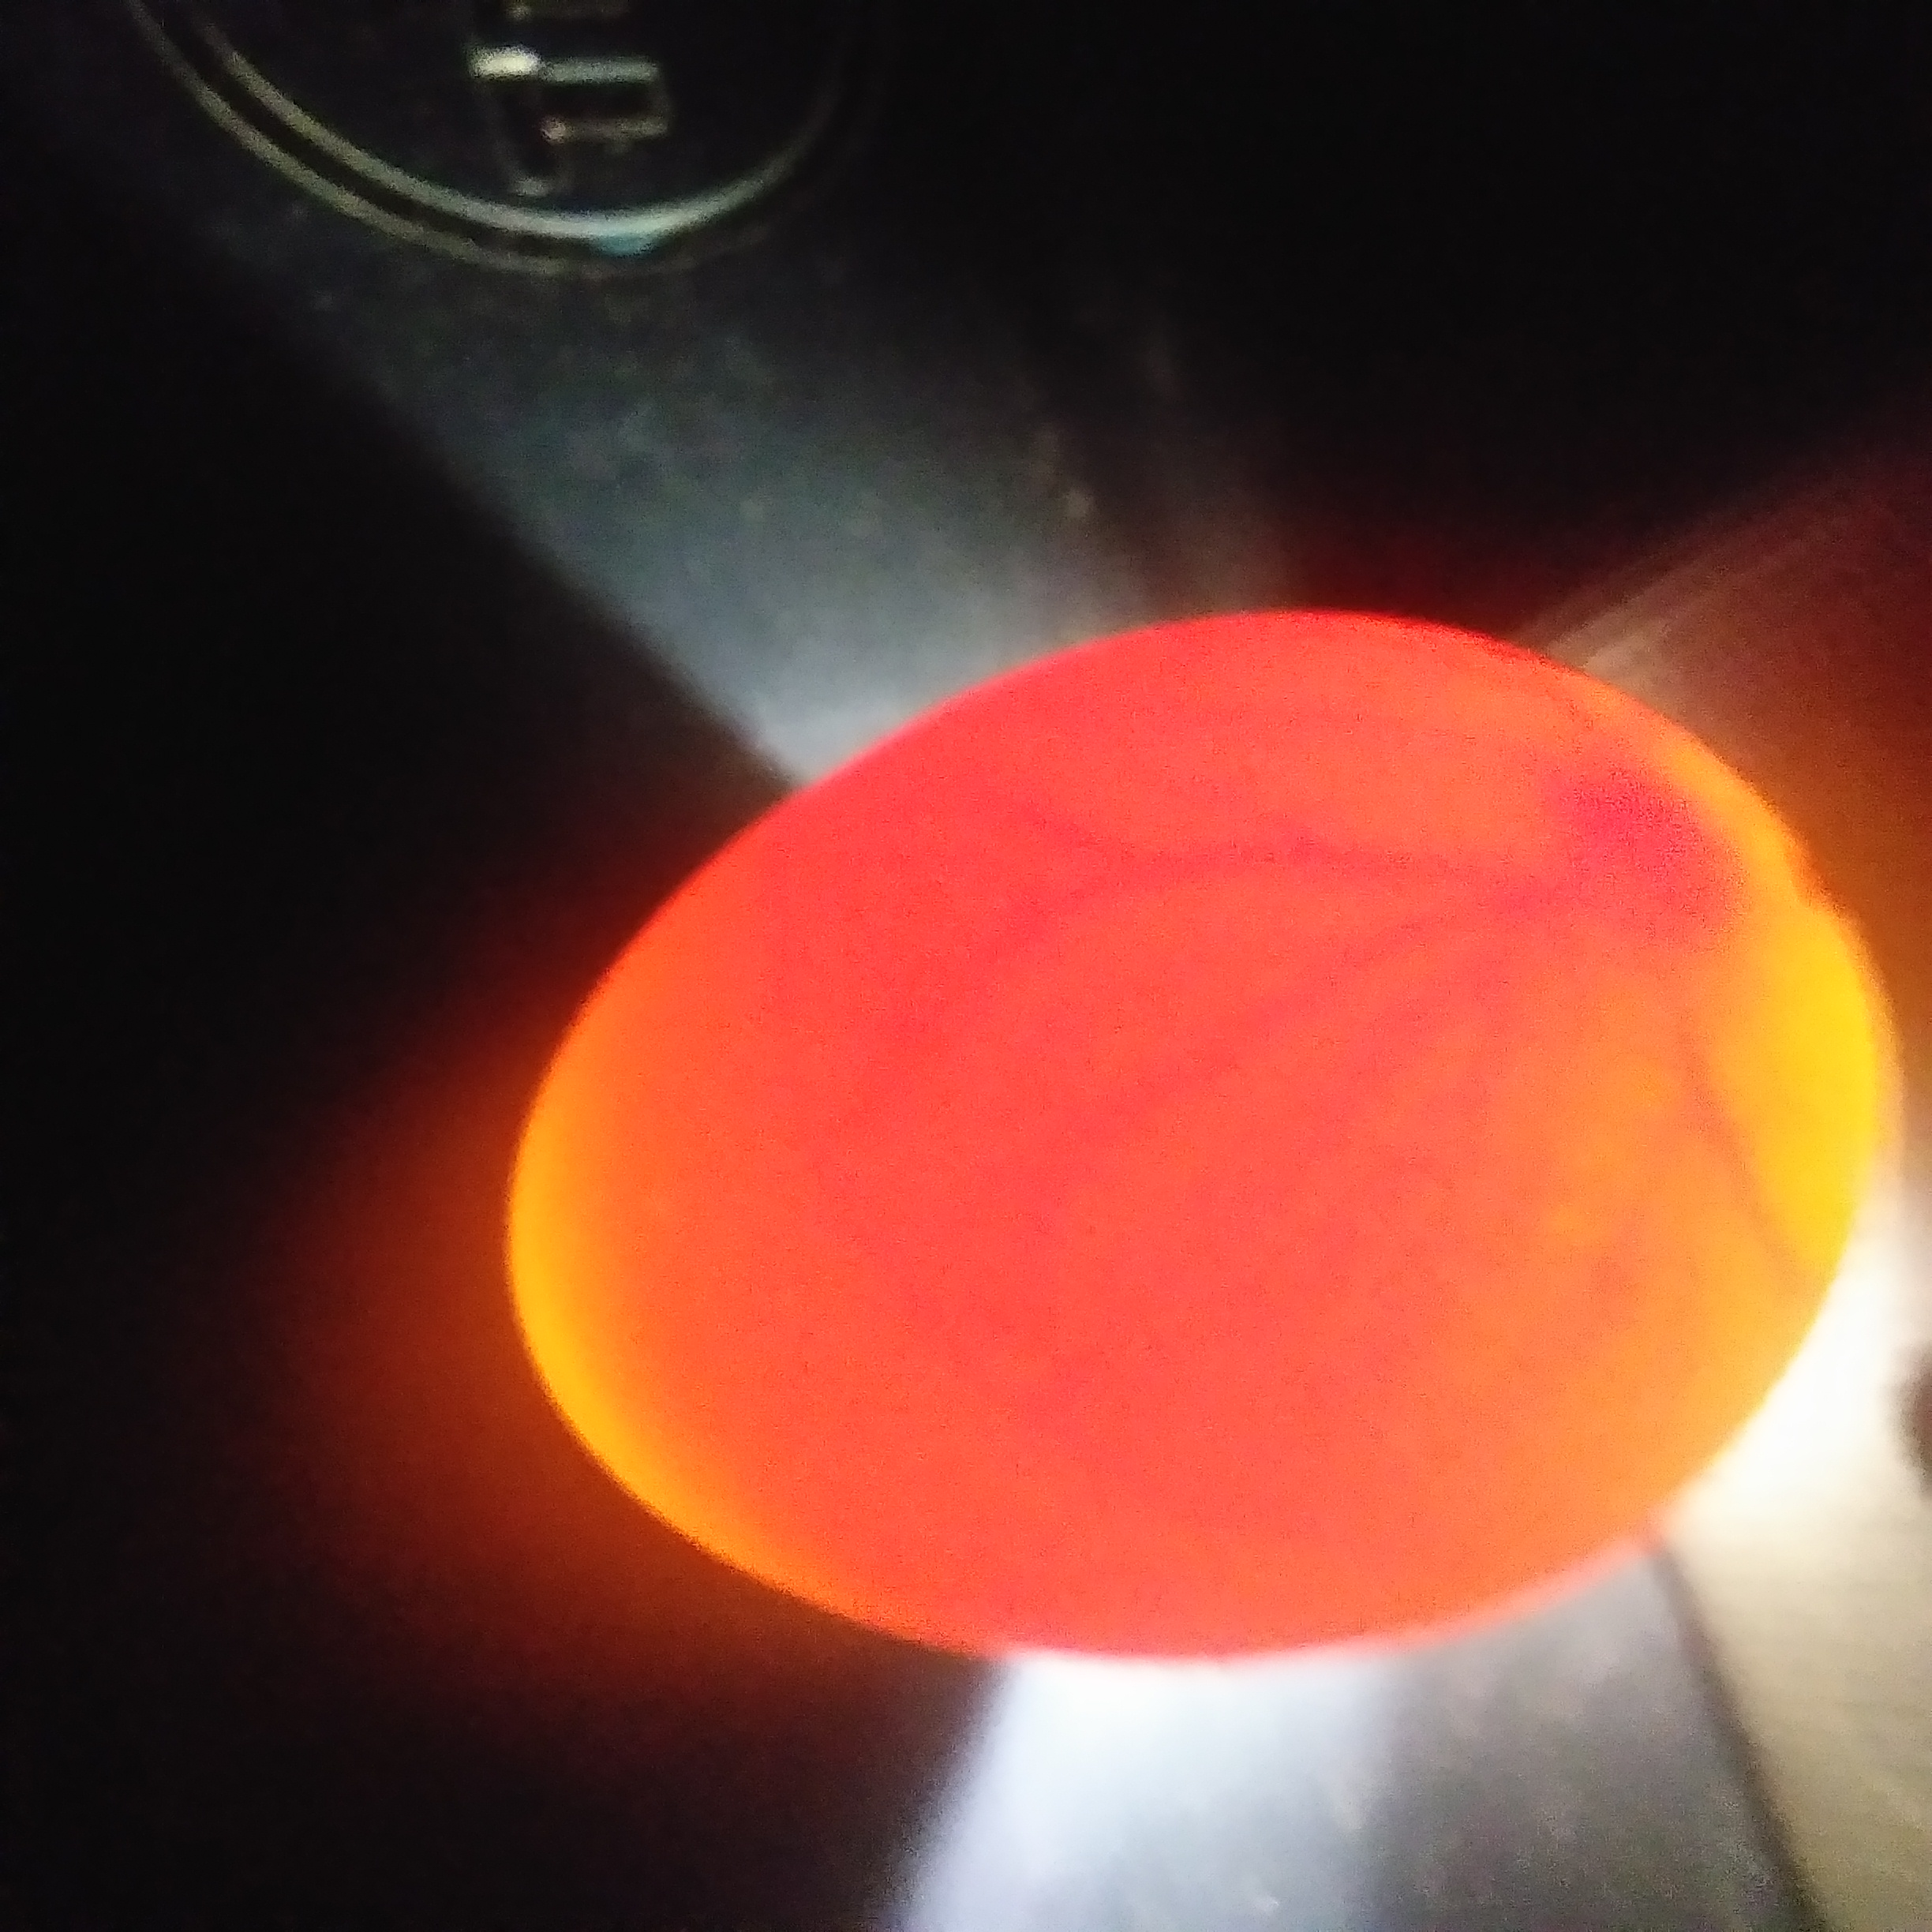bloodcell: (1003, 764, 1491, 1594)
embryo: (1529, 775, 1746, 959)
